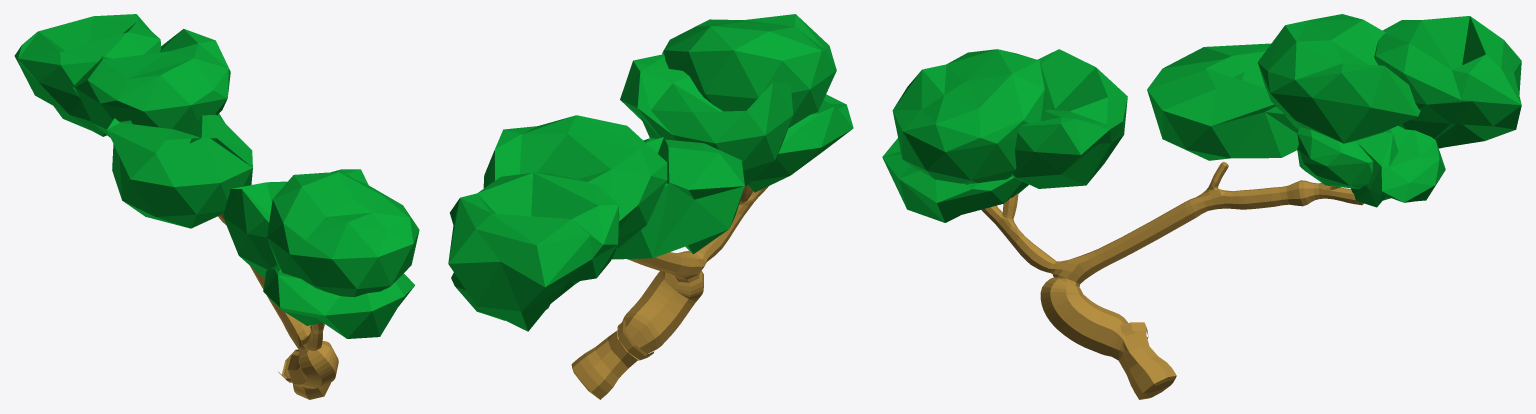
File: tree1.gltf
3 views of the same model, side by side, from view 1: azimuth 30°, elevation 25°; view 2: azimuth 150°, elevation 25°; view 3: azimuth 270°, elevation 25° (orthographic). The views are drawn at different scales.
Visible parts, largest first — view 1: Icosphere, Icosphere.001, Cube; view 2: Icosphere, Icosphere.001, Cube; view 3: Icosphere, Icosphere.001, Cube.
Part boxes in pixels (left/top/right/bottom): Icosphere: left=72, top=29, right=414, bottom=338; Icosphere.001: left=14, top=14, right=419, bottom=296; Cube: left=218, top=214, right=338, bottom=399; Icosphere: left=451, top=54, right=853, bottom=320; Icosphere.001: left=448, top=14, right=836, bottom=331; Cube: left=571, top=185, right=768, bottom=399; Icosphere: left=882, top=14, right=1445, bottom=222; Icosphere.001: left=892, top=16, right=1521, bottom=184; Cube: left=981, top=162, right=1363, bottom=399.
Bounding box in the file's own units: 2.59 × 4.32 × 7.57.
